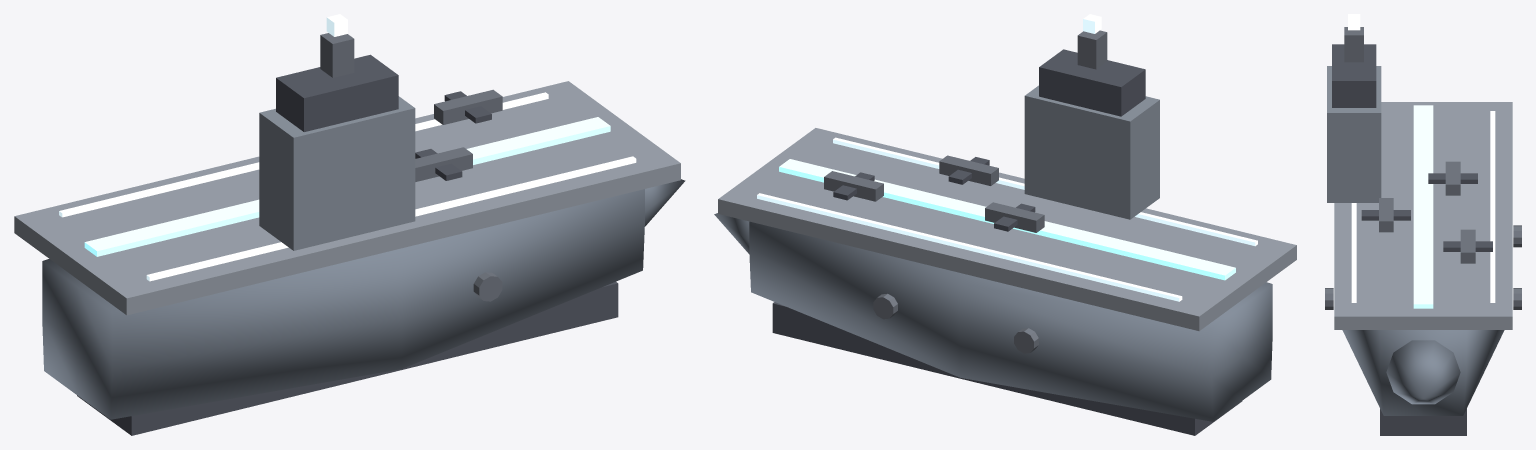
Rendered from Phantom_Carrier.fbx.
3 views of the same model, side by side, from view 1: azimuth 30°, elevation 25°; view 2: azimuth 150°, elevation 25°; view 3: azimuth 270°, elevation 25° (orthographic). The views are drawn at different scales.
Visible parts, largest first — view 1: Phantom_Carrier; view 2: Phantom_Carrier; view 3: Phantom_Carrier.
Boxes of the visible parts, x1,y1,x2,y2 form: Phantom_Carrier: (14, 14, 685, 435); Phantom_Carrier: (714, 14, 1296, 435); Phantom_Carrier: (1325, 14, 1521, 435).
Bounding box in the file's own units: 2.28 × 1.35 × 0.795.
